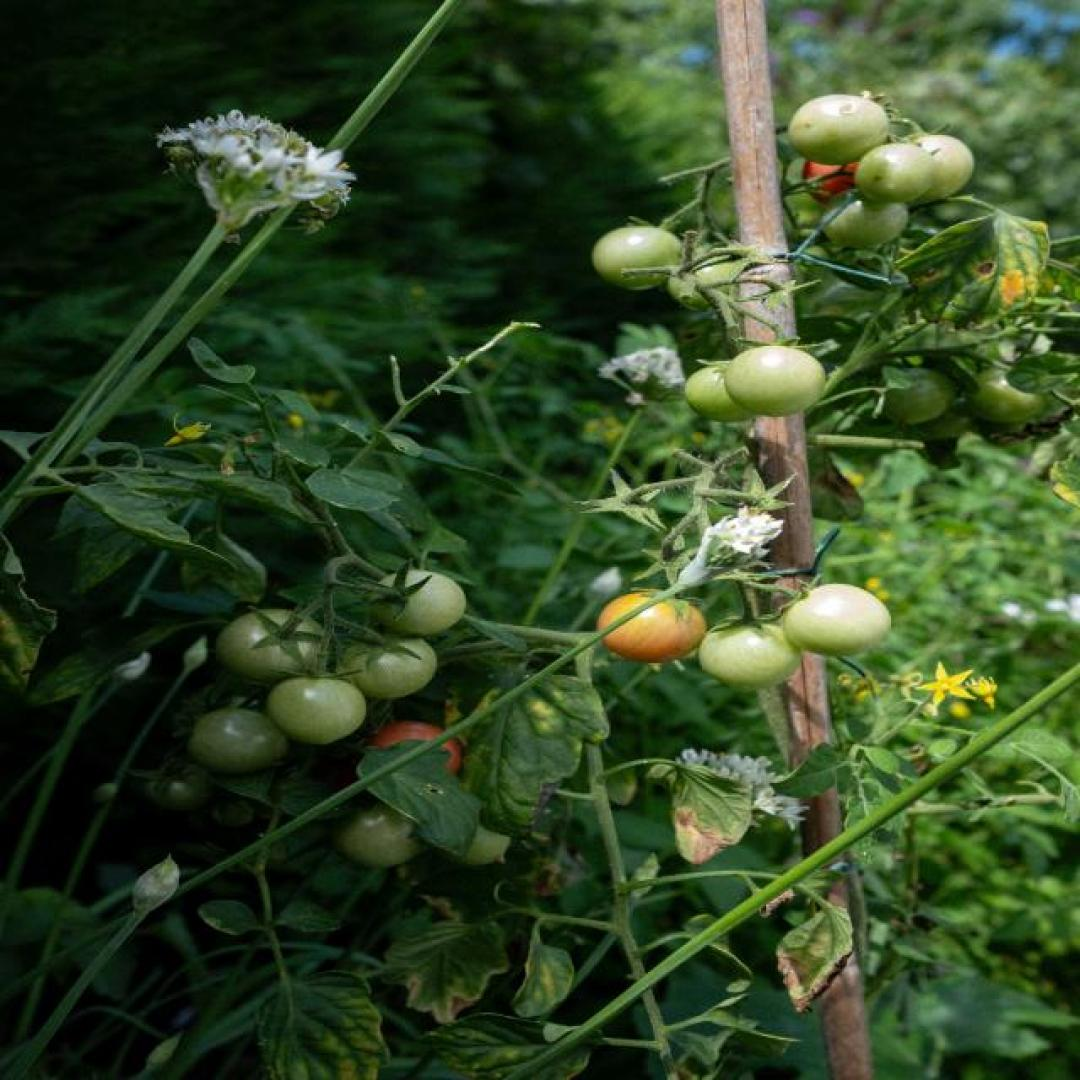mentah: (215, 608, 333, 681), (785, 584, 894, 658), (722, 344, 825, 418), (790, 94, 894, 166), (699, 624, 803, 692), (591, 224, 685, 294), (270, 678, 368, 742), (373, 570, 466, 634)
setengah_matang: (594, 592, 709, 664)
